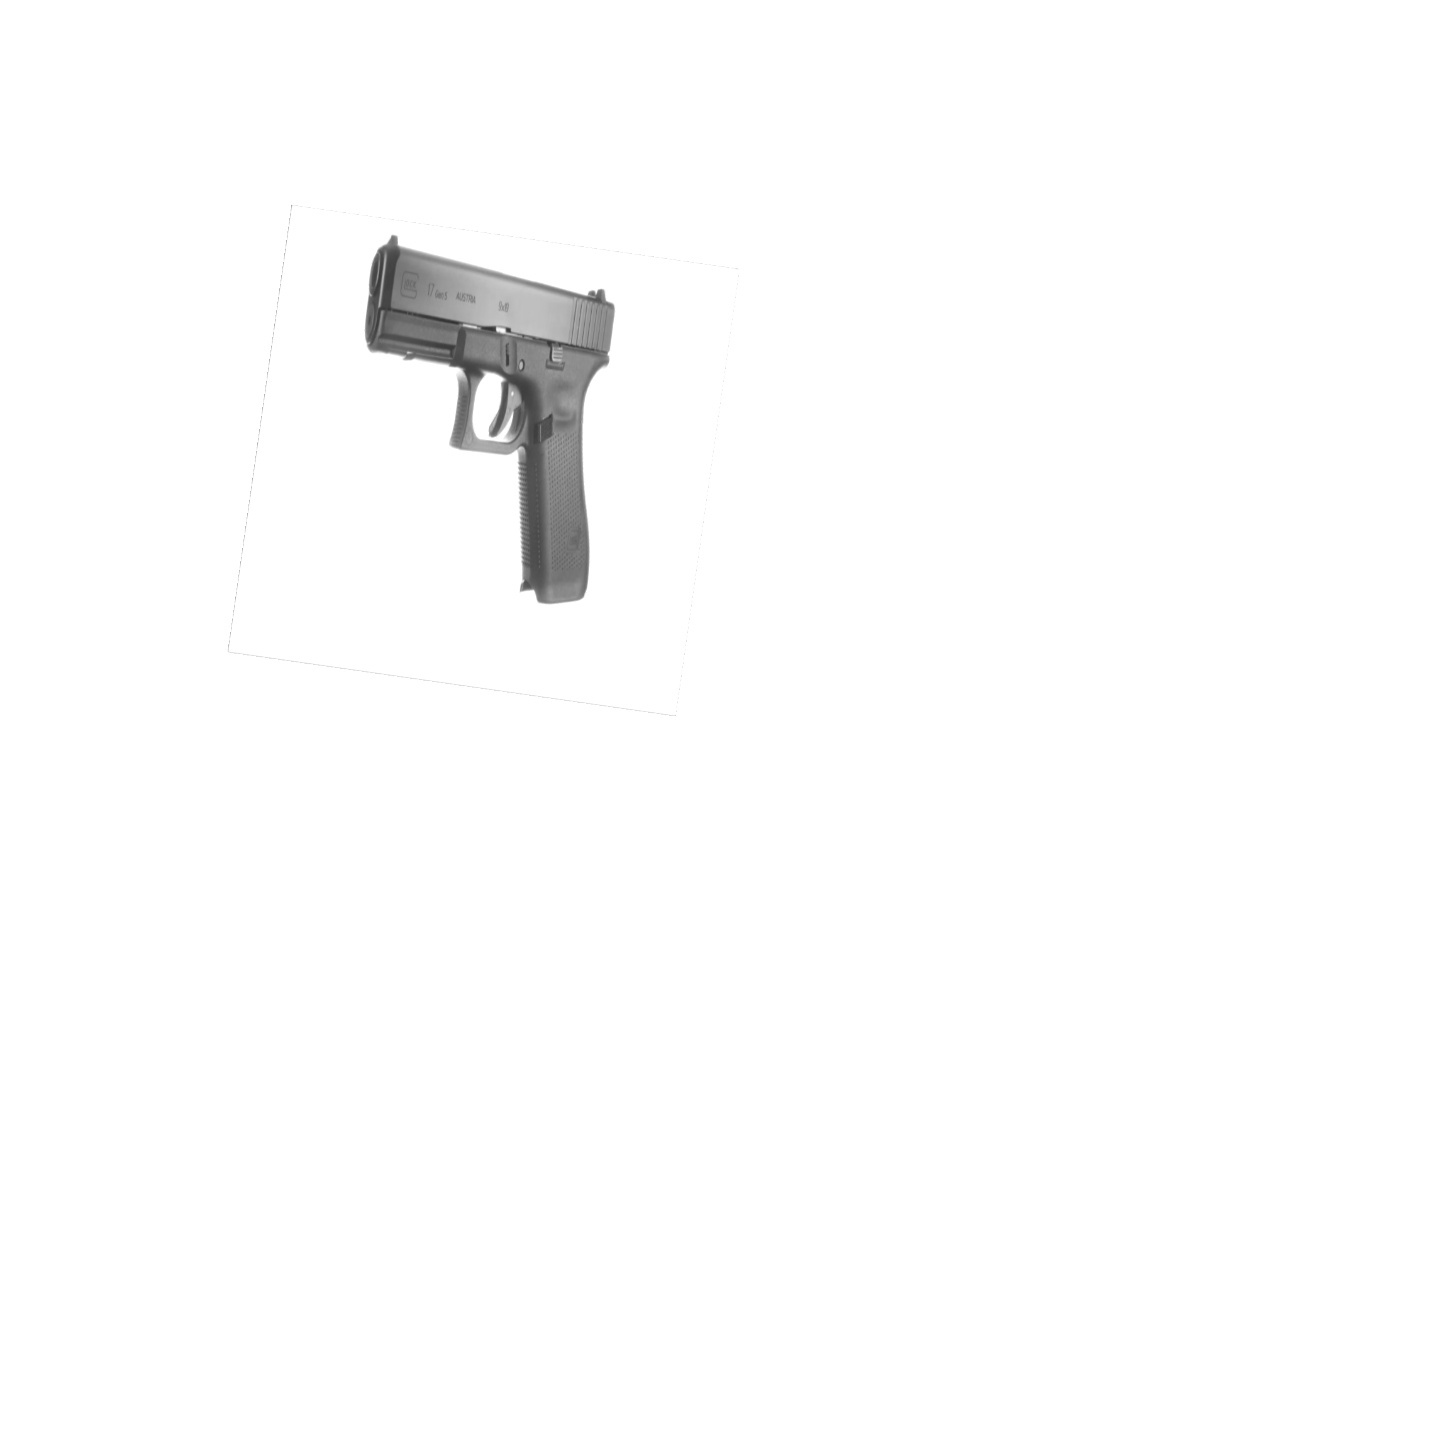gun: (363, 234, 615, 604)
